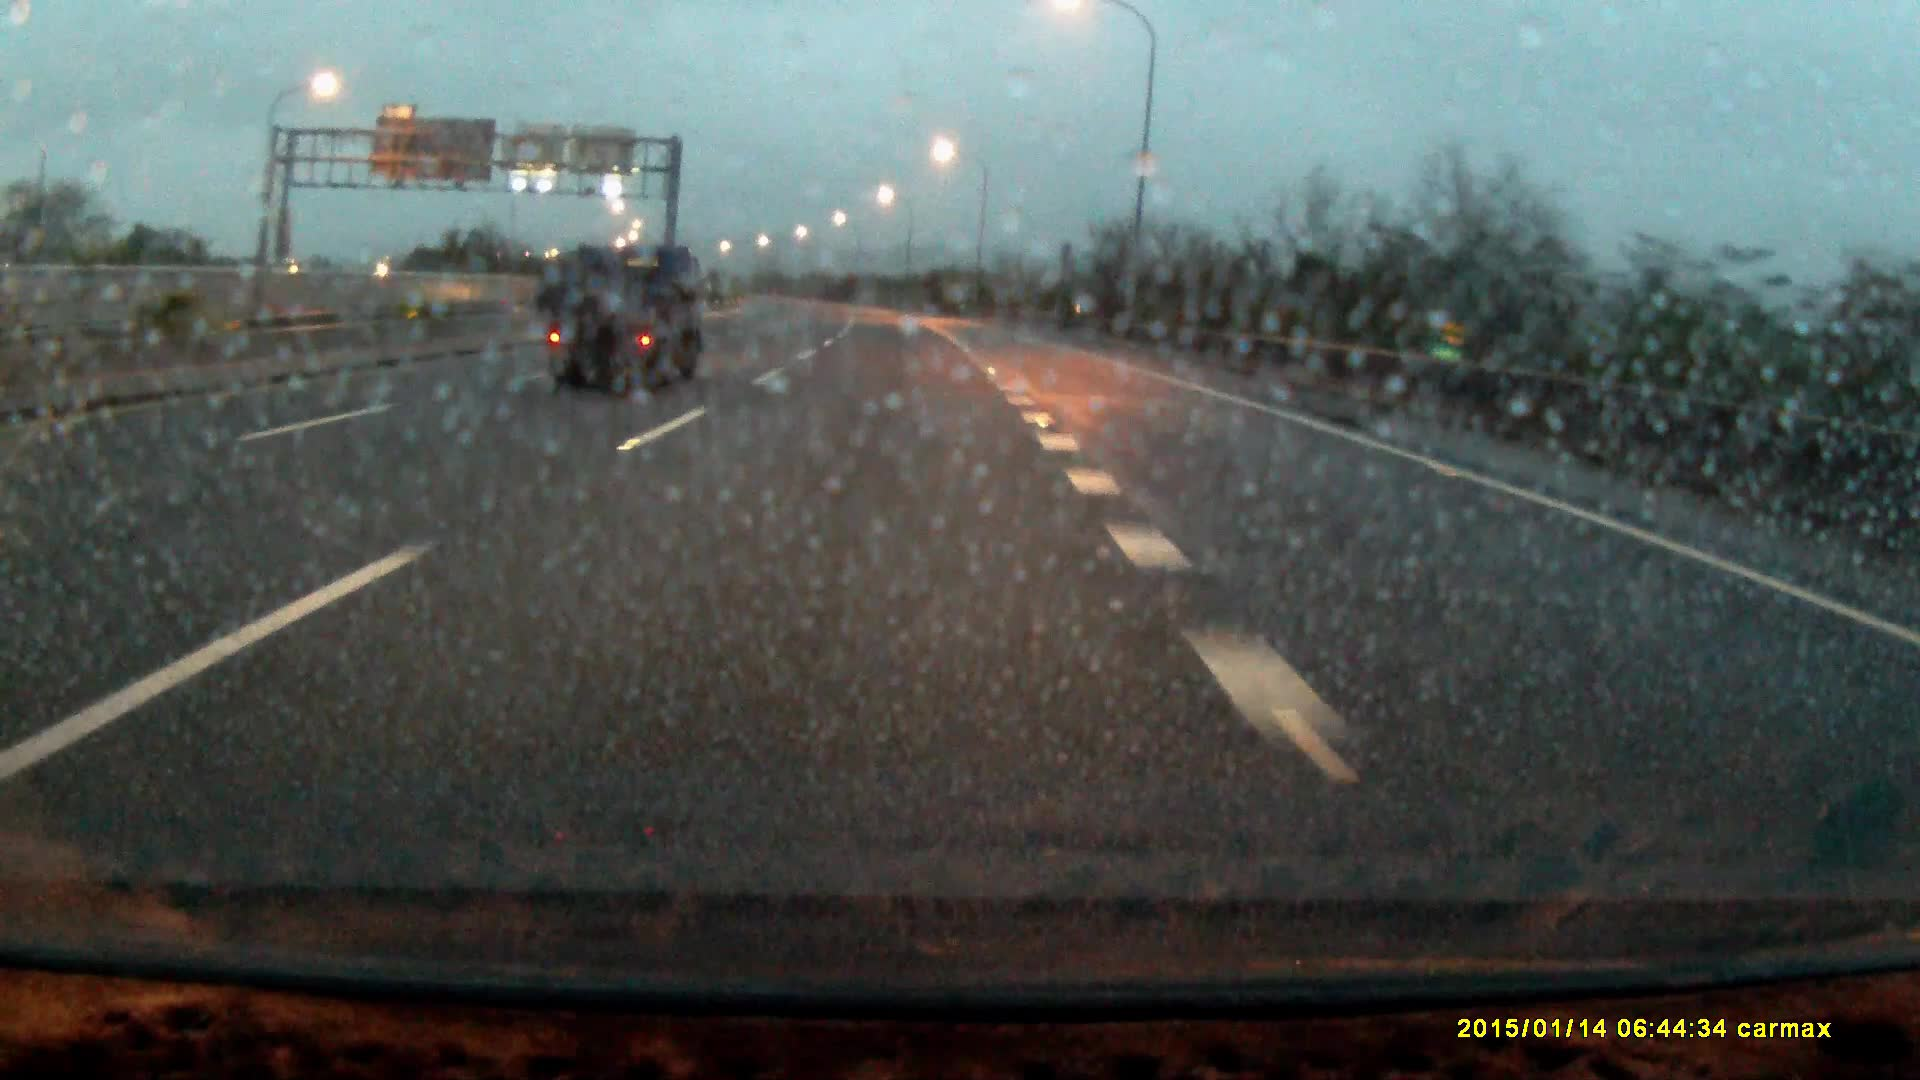vehicle: (542, 252, 711, 397)
